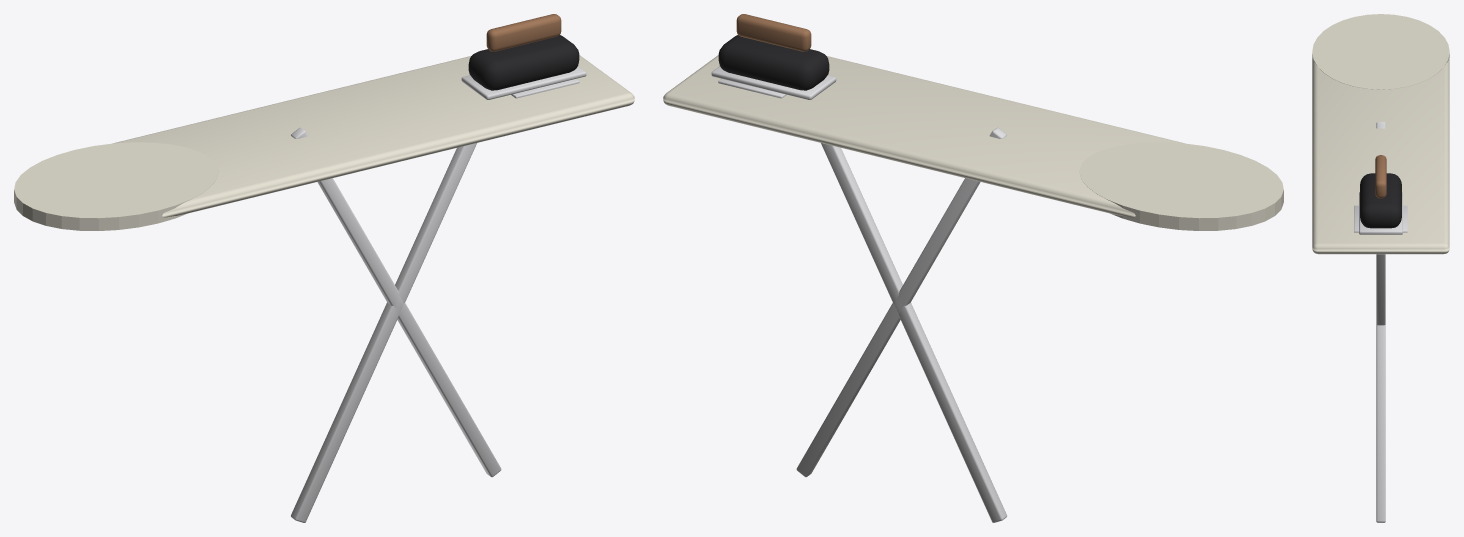
The model's file is v2_ironing_board.fbx.
3 views of the same model, side by side, from view 1: azimuth 30°, elevation 25°; view 2: azimuth 150°, elevation 25°; view 3: azimuth 270°, elevation 25° (orthographic). The views are drawn at different scales.
Parts seen in each view (by area): view 1: BoardTop, BoardTip, Leg1.001, Leg-1, IronBody, IronHandle, IronPlate; view 2: BoardTop, BoardTip, Leg1.001, Leg-1, IronBody, IronHandle, IronPlate; view 3: BoardTop, BoardTip, Leg-1, IronBody, Leg1.001, IronHandle, IronPlate, IronRest.
Boxes of the visible parts, x1,y1,x2,y2 form: BoardTop: (112, 55, 634, 217); BoardTip: (14, 142, 218, 230); Leg1.001: (291, 143, 476, 522); Leg-1: (291, 127, 501, 477); IronBody: (468, 35, 579, 90); IronHandle: (486, 14, 561, 51); IronPlate: (461, 66, 586, 99); BoardTop: (663, 55, 1185, 217); BoardTip: (1079, 142, 1283, 230); Leg1.001: (821, 143, 1006, 522); Leg-1: (796, 127, 1006, 477); IronBody: (718, 35, 829, 90); IronHandle: (736, 14, 811, 51); IronPlate: (711, 66, 836, 99); BoardTop: (1312, 58, 1449, 254); BoardTip: (1312, 14, 1449, 89); Leg-1: (1376, 122, 1385, 522); IronBody: (1360, 173, 1401, 228); Leg1.001: (1376, 254, 1385, 325); IronHandle: (1375, 155, 1386, 198); IronPlate: (1359, 192, 1402, 234); IronRest: (1354, 205, 1407, 232).
Size of the model in its own units: 1.43 by 1.06 by 0.36.
